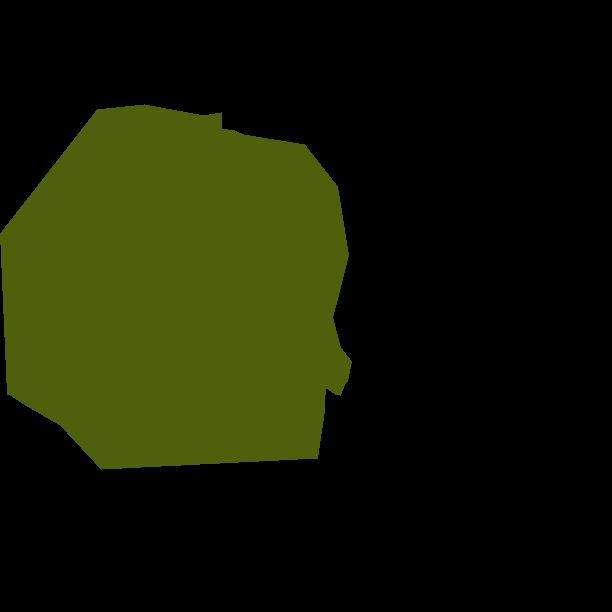Train: (0, 104, 351, 470)
